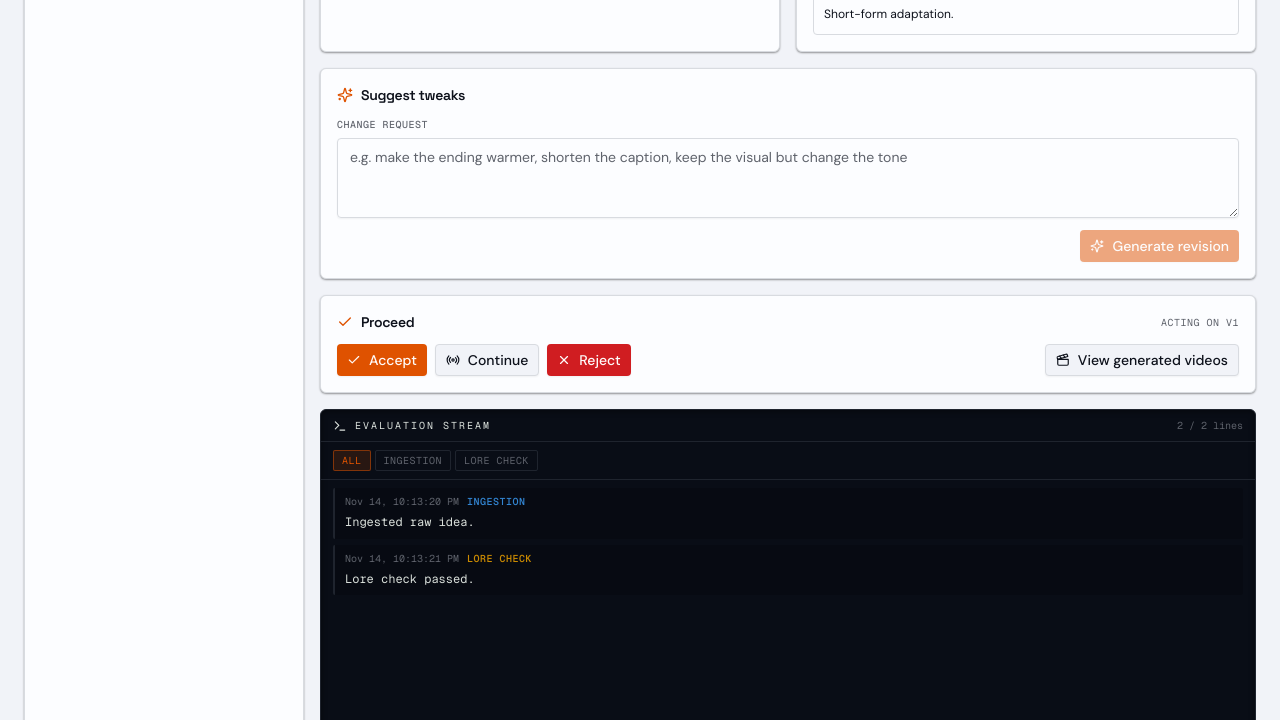
Scenario: SimulationPage › rejects a run with a reason and reflects rejection in the run list
The image size is (1280, 720).
(page scrolled)
Click the button with test id "simulation.reject_button": coordinates (589, 360) top-left (547, 344), bottom-right (631, 376)
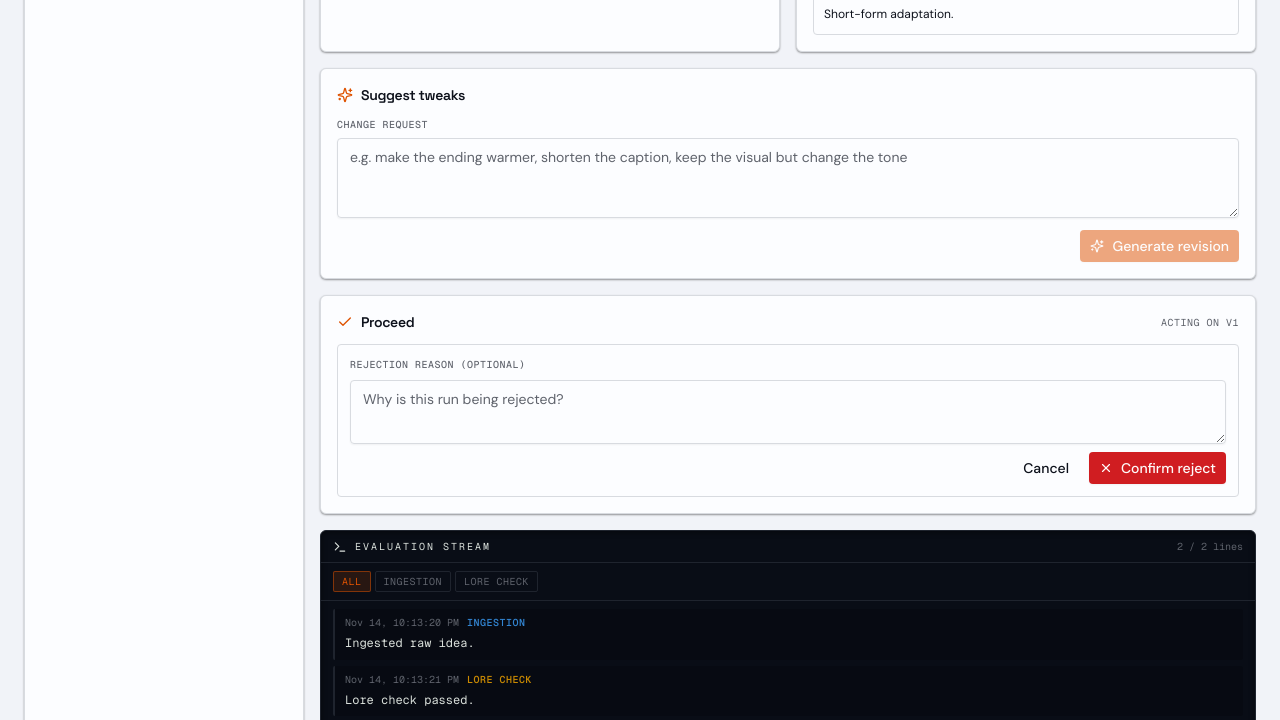
In the text box with test id "simulation.reject.input": coordinates (788, 412) top-left (350, 380), bottom-right (1226, 444), type "Tone is off."
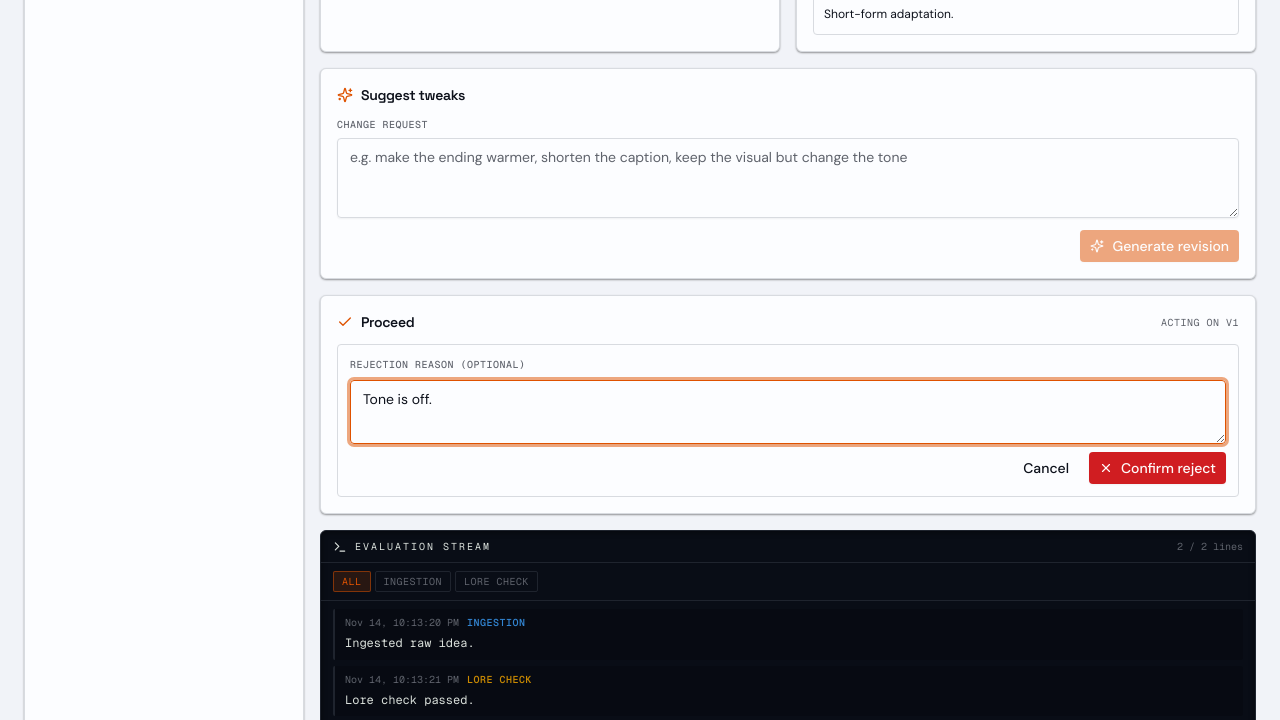
Click the button with test id "simulation.reject.confirm_button": coordinates (1158, 468) top-left (1089, 452), bottom-right (1226, 484)
(page scrolled)
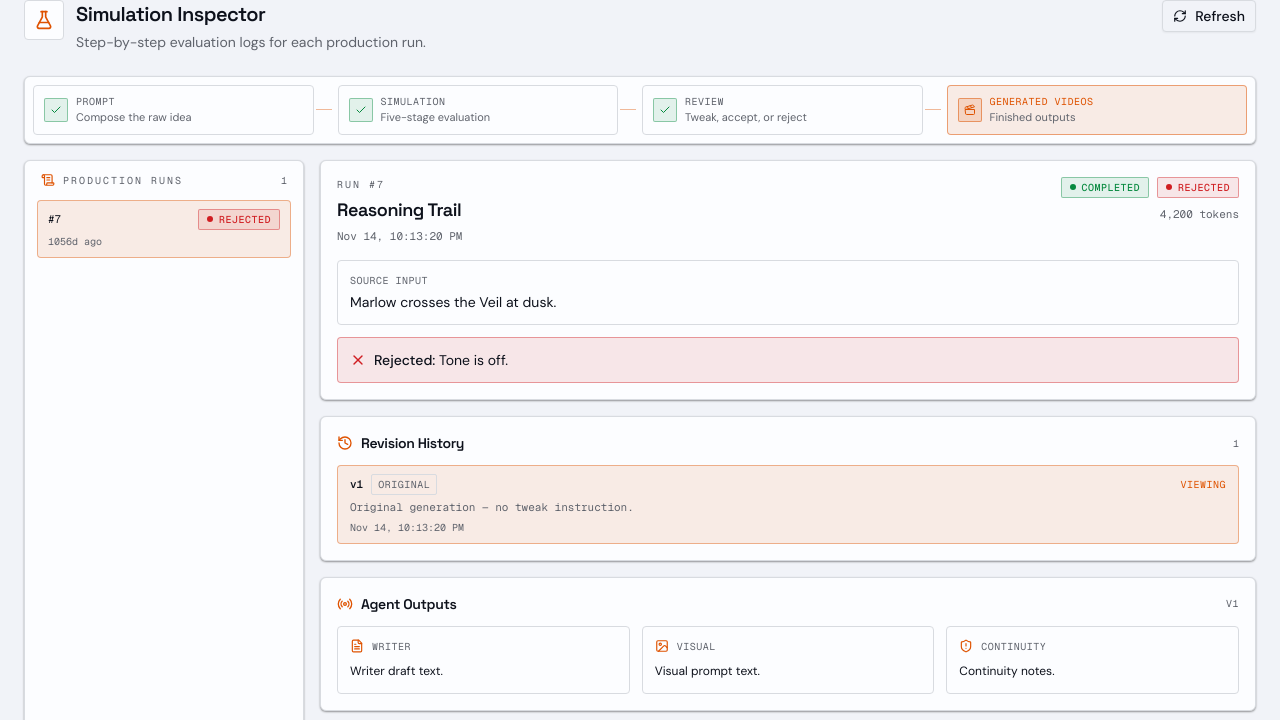
Expected: the button with test id "simulation.run_list.item" shows "Rejected", top-left (37, 200), bottom-right (291, 258)
Expected: the element with test id "simulation.decision.reason" shows "Tone is off.", top-left (439, 351), bottom-right (508, 369)
